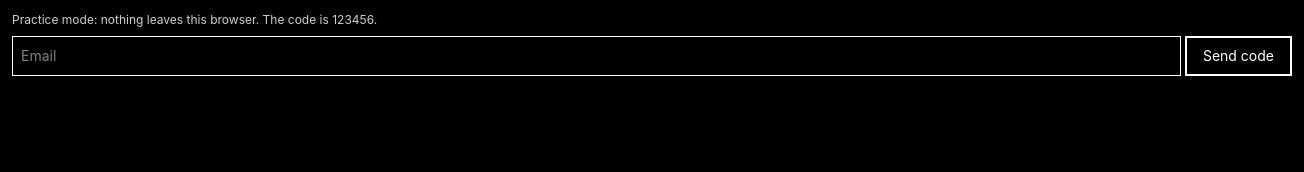
Test: the account panel › a bad address and a wrong code each say so in words, and nothing is signed in
In the field labelled "Email": (596, 56) 12,36 -> 1181,76, type "nope"
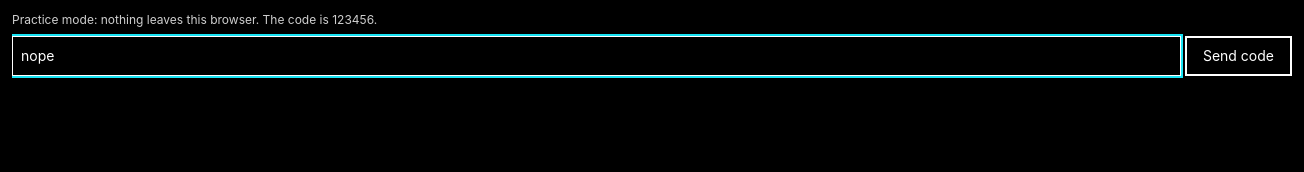
Click the button "Send code": (1238, 56) 1185,36 -> 1292,76
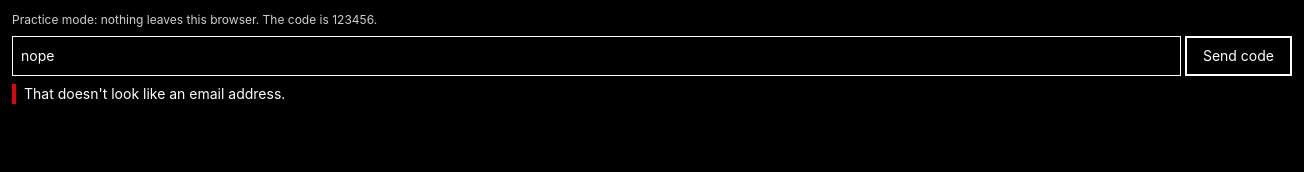
Expected: the message shows "doesn't look like an email", 24,85 -> 285,102
Replace the text in the field named "Email" with "ren@example.com": (596, 56) 12,36 -> 1181,76
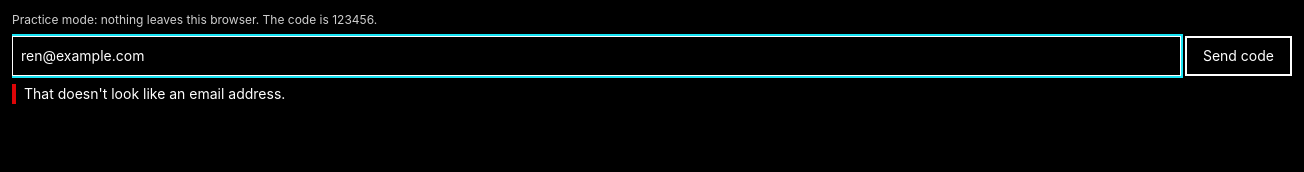
Click the button "Send code": (1238, 56) 1185,36 -> 1292,76
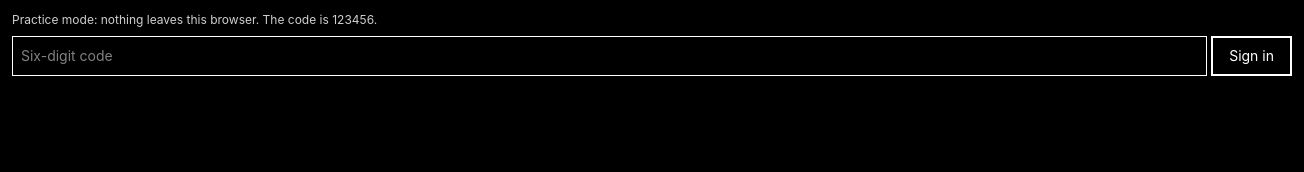
In the field labelled "Six-digit code": (610, 56) 12,36 -> 1207,76, type "000000"
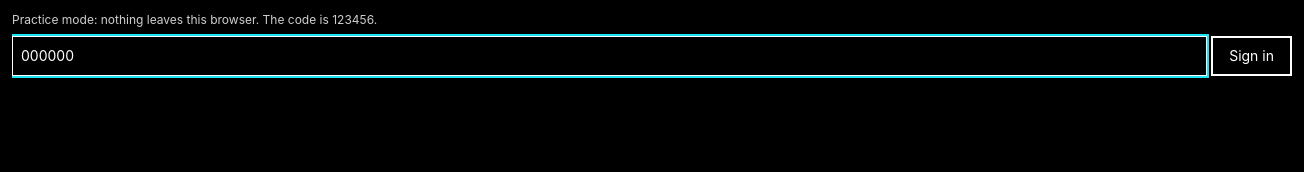
Click the button "Sign in": (1252, 56) 1211,36 -> 1292,76
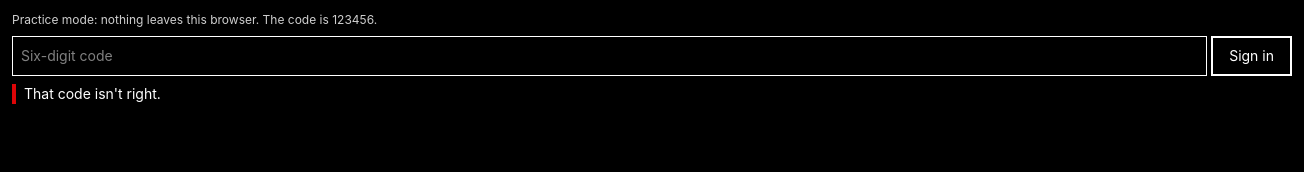
Expected: the message shows "isn't right", 24,85 -> 161,102
